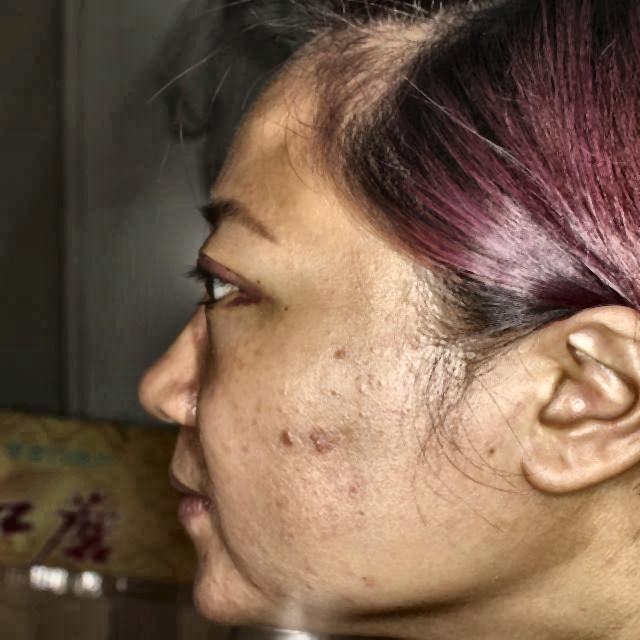comedone: (270, 412, 309, 453), (315, 425, 344, 462)
